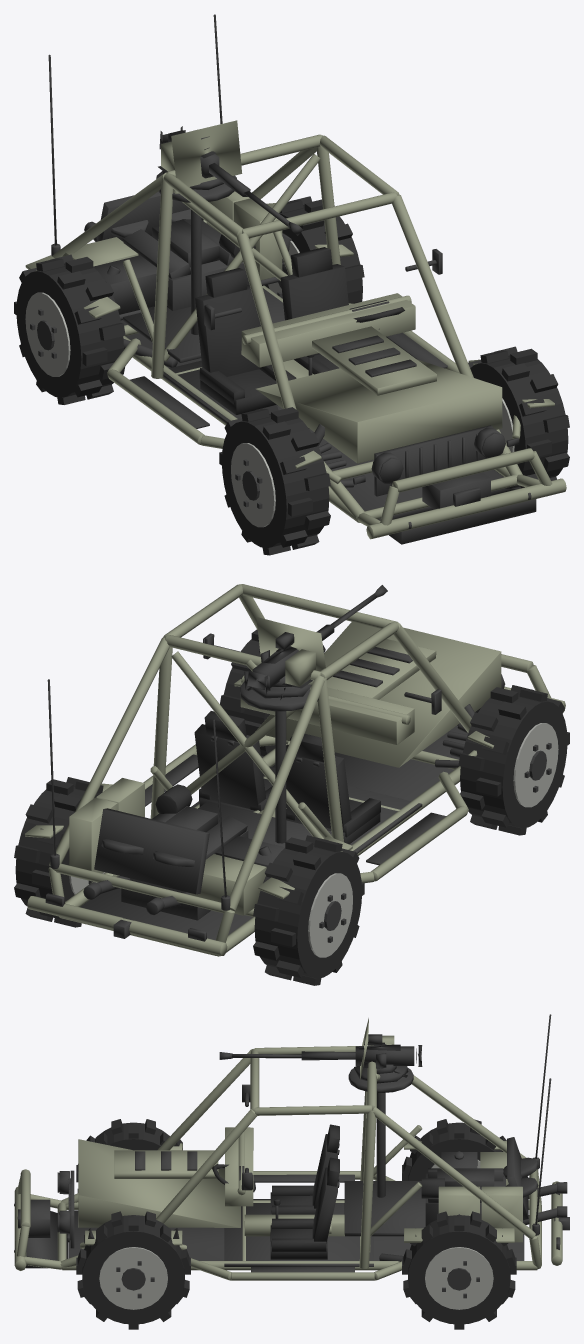
The model's file is buggy.glb.
3 renders of one model, top to bottom at view 1: azimuth 30°, elevation 25°; view 2: azimuth 150°, elevation 25°; view 3: azimuth 270°, elevation 25°, orthographic. The views are drawn at different scales.
Parts seen in each view (by area): view 1: body, wheel_fr, wheel_rr, wheel_fl, mg_turret, wheel_rl, mg_gun; view 2: body, wheel_fr, wheel_rr, wheel_rl, mg_gun, mg_turret, wheel_fl; view 3: body, wheel_fl, wheel_rl, wheel_rr, mg_gun, wheel_fr, mg_turret.
Part boxes in pixels (x1,y1,x2,y2): body: [25, 14, 566, 544]; wheel_fr: [219, 405, 330, 555]; wheel_rr: [14, 254, 125, 404]; wheel_fl: [468, 346, 569, 489]; mg_turret: [163, 120, 242, 189]; wheel_rl: [264, 196, 364, 303]; mg_gun: [158, 126, 303, 235]; body: [25, 584, 565, 956]; wheel_fr: [458, 685, 569, 835]; wheel_rr: [253, 835, 364, 985]; wheel_rl: [14, 777, 105, 927]; mg_gun: [244, 585, 387, 694]; mg_turret: [246, 617, 325, 699]; wheel_fl: [220, 629, 325, 766]; body: [14, 1014, 569, 1280]; wheel_fl: [76, 1211, 190, 1329]; wheel_rl: [402, 1211, 516, 1329]; wheel_rr: [402, 1119, 506, 1180]; mg_gun: [219, 1034, 422, 1066]; wheel_fr: [76, 1119, 182, 1192]; mg_turret: [354, 1018, 408, 1083].
Bounding box in the file's own units: 2.06 × 1.95 × 4.27.
